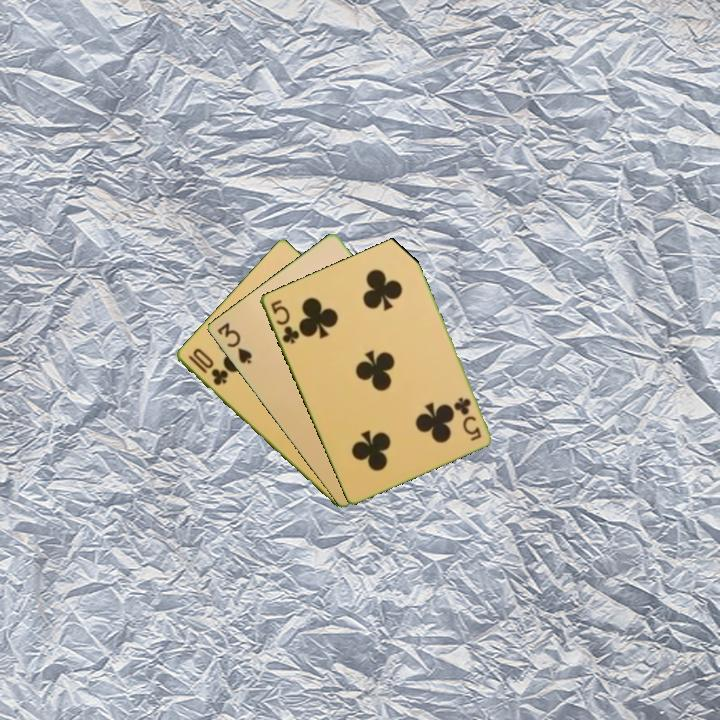10c: (184, 344, 231, 388)
3s: (213, 319, 255, 367)
5c: (267, 296, 302, 347), (451, 393, 484, 444)
